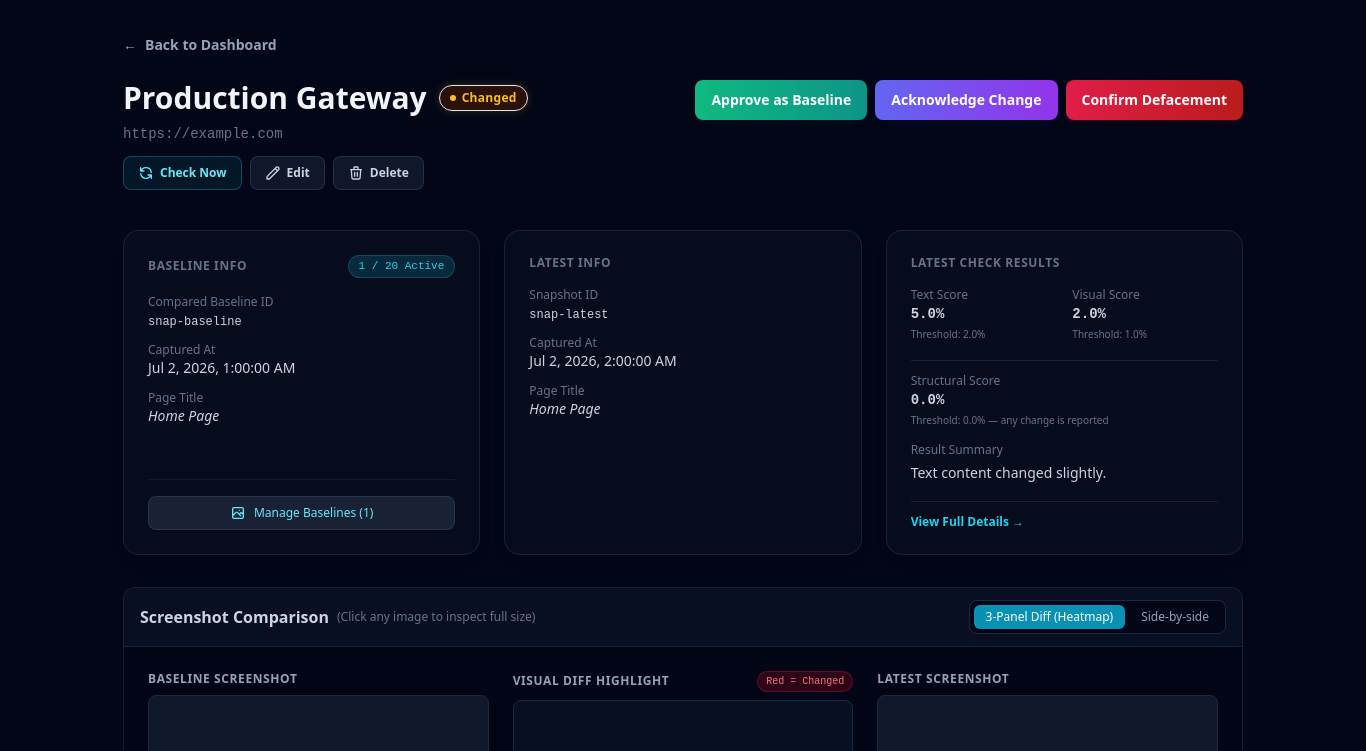
Test: TargetDetailPage › displays and dismisses triage error banner when triage mutation fails
The width and height of the screenshot is (1366, 751).
Click the button "Approve as Baseline".
click(781, 100)  # box [695,80,867,120]
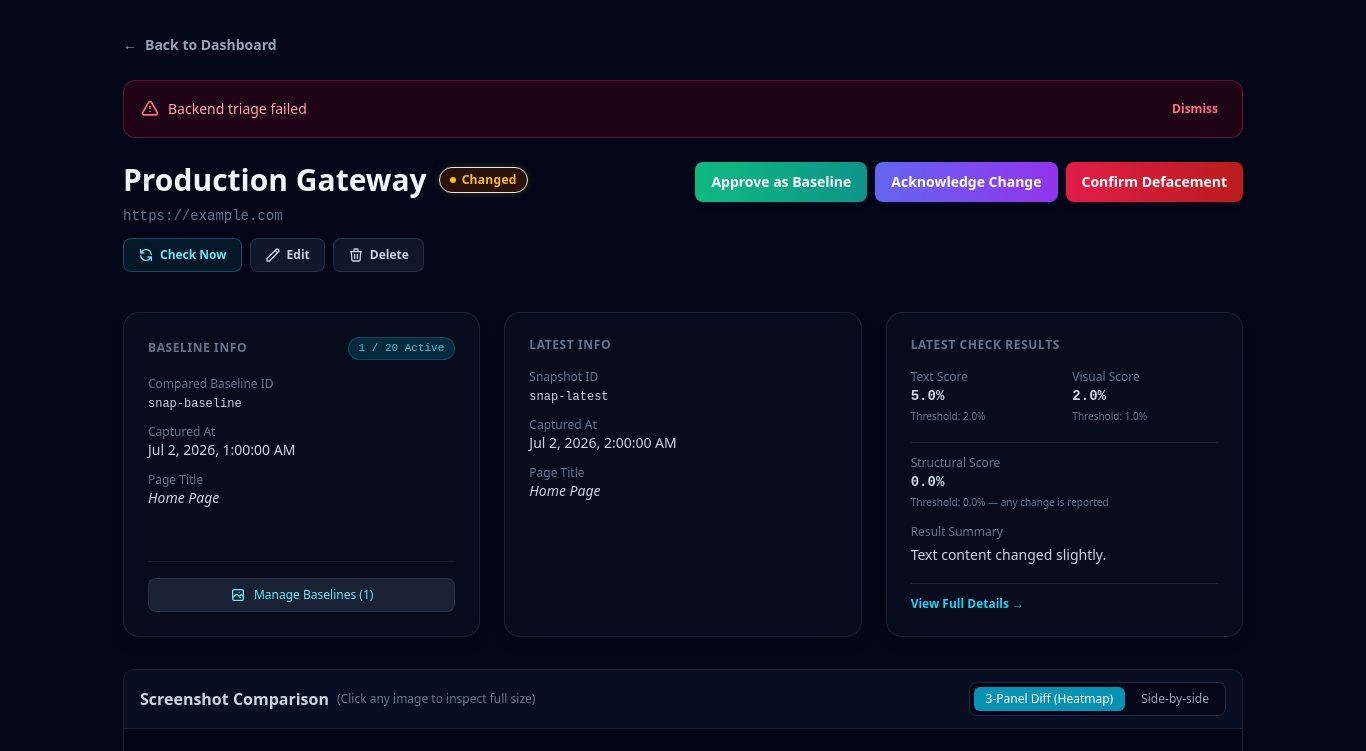
Result: the element with test id "triage-error-banner" is shown at [123,80,1243,138]
Result: the text "Backend triage failed" is shown at [168,99,307,119]
Click the button "Dismiss".
click(1195, 109)  # box [1164,97,1226,121]
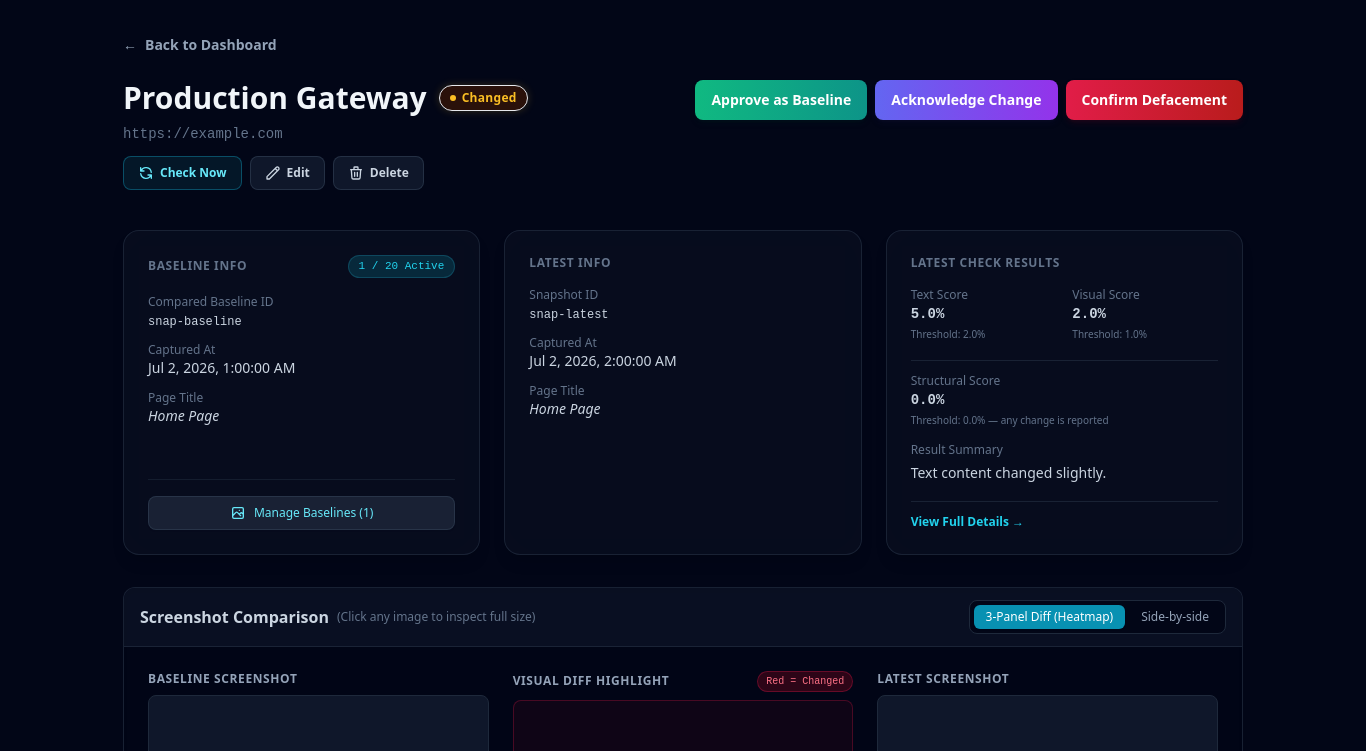
Result: the element with test id "triage-error-banner" is gone
